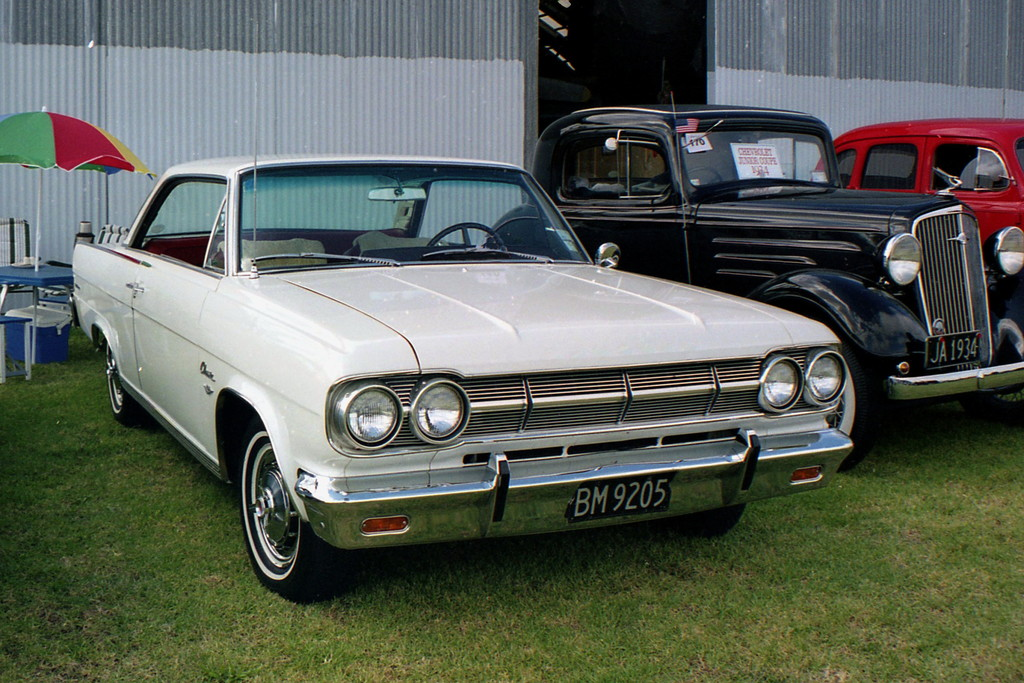Car: (70, 156, 853, 605), (480, 80, 1023, 427), (803, 118, 1023, 417)
